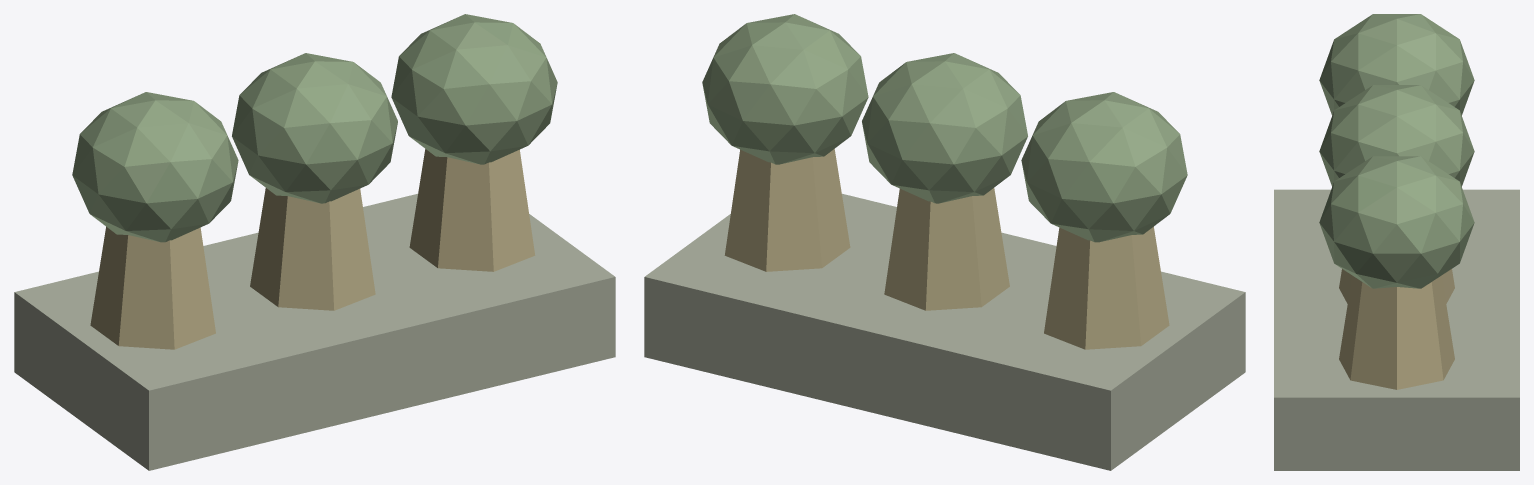
Rendered from map-exclusive-v3__champion_10.glb.
The picture shows the model from 3 angles, left to right: view 1: azimuth 30°, elevation 25°; view 2: azimuth 150°, elevation 25°; view 3: azimuth 270°, elevation 25°; orthographic projection. The views are drawn at different scales.
Visible parts, largest first — view 1: champion_10; view 2: champion_10; view 3: champion_10.
Boxes of the visible parts, x1,y1,x2,y2 form: champion_10: (14,14,615,470); champion_10: (644,14,1245,470); champion_10: (1274,14,1519,470).
Bounding box in the file's own units: 1.52 × 0.945 × 0.76.
